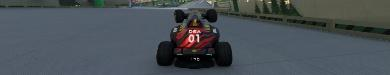Car: (155, 7, 232, 68)
